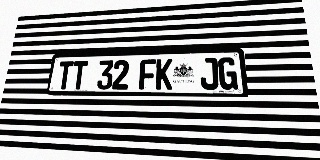2: (112, 60, 129, 89)
3: (97, 60, 114, 89)
F: (139, 59, 156, 90)
G: (218, 57, 238, 90)
J: (200, 58, 219, 90)
K: (156, 59, 172, 90)
T: (56, 61, 74, 89), (71, 61, 88, 89)
